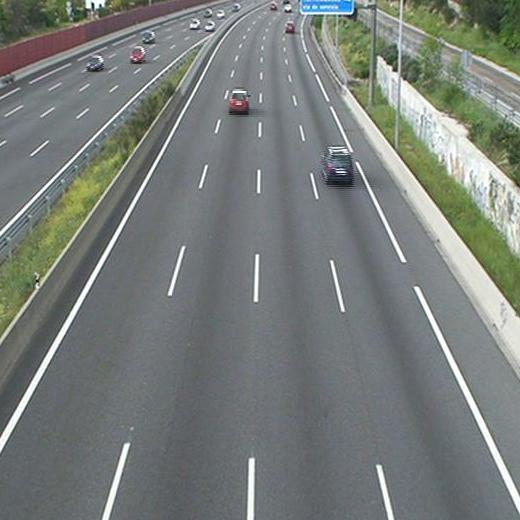car: (321, 148, 352, 179), (229, 90, 248, 111), (284, 22, 295, 32), (283, 4, 291, 13), (268, 3, 276, 10)
